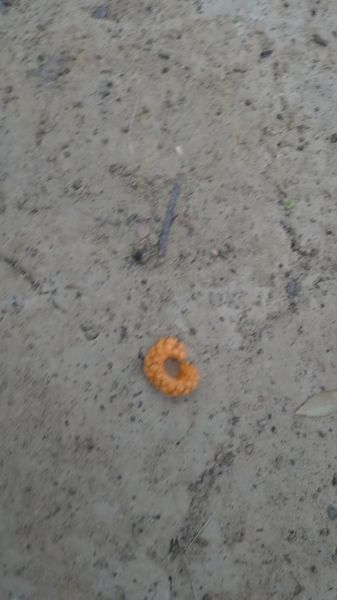eggs: (142, 332, 196, 402)
